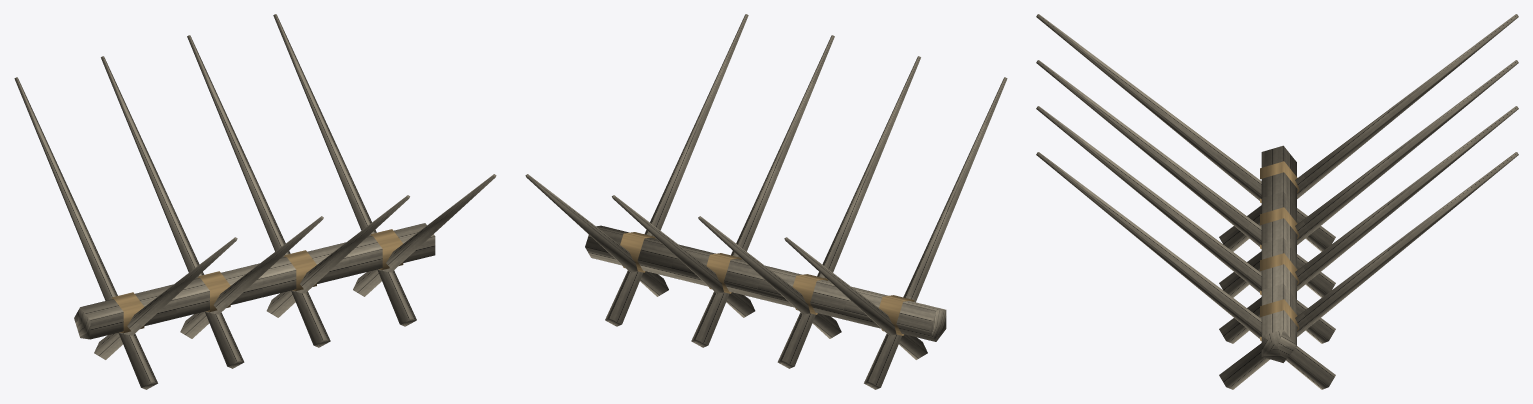
File: Stakes_Chevaux_1_LOD1.gltf
3 views of the same model, side by side, from view 1: azimuth 30°, elevation 25°; view 2: azimuth 150°, elevation 25°; view 3: azimuth 270°, elevation 25° (orthographic). The views are drawn at different scales.
Parts seen in each view (by area): view 1: Stakes_Chevaux_1_LOD1; view 2: Stakes_Chevaux_1_LOD1; view 3: Stakes_Chevaux_1_LOD1.
Boxes of the visible parts, x1,y1,x2,y2 form: Stakes_Chevaux_1_LOD1: [14, 14, 496, 389]; Stakes_Chevaux_1_LOD1: [525, 14, 1007, 389]; Stakes_Chevaux_1_LOD1: [1036, 14, 1518, 389].
Bounding box in the file's own units: 4 × 2.41 × 4.44.
2 materials, 2 textured.
